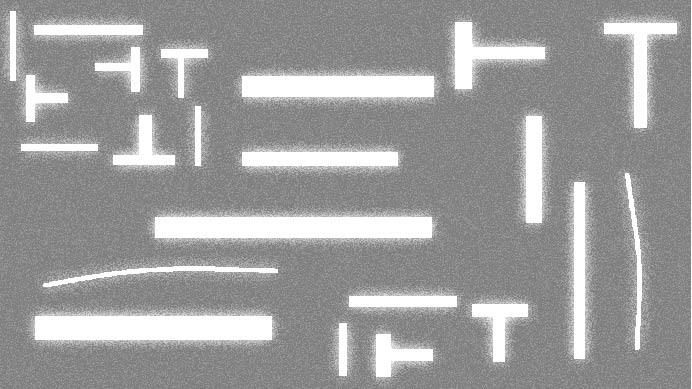LaneMark: (138, 207, 445, 248), (21, 305, 285, 348), (599, 15, 683, 133), (450, 16, 555, 90), (32, 259, 282, 290), (617, 168, 655, 356), (235, 70, 441, 104), (566, 175, 594, 367), (237, 145, 406, 176), (468, 294, 535, 370), (104, 108, 179, 172), (517, 109, 553, 231), (368, 330, 438, 379), (157, 40, 212, 100), (94, 42, 148, 99), (21, 71, 72, 126), (340, 290, 461, 313), (31, 19, 148, 42), (17, 138, 101, 157), (330, 317, 356, 378), (188, 102, 210, 172), (5, 5, 20, 89)
